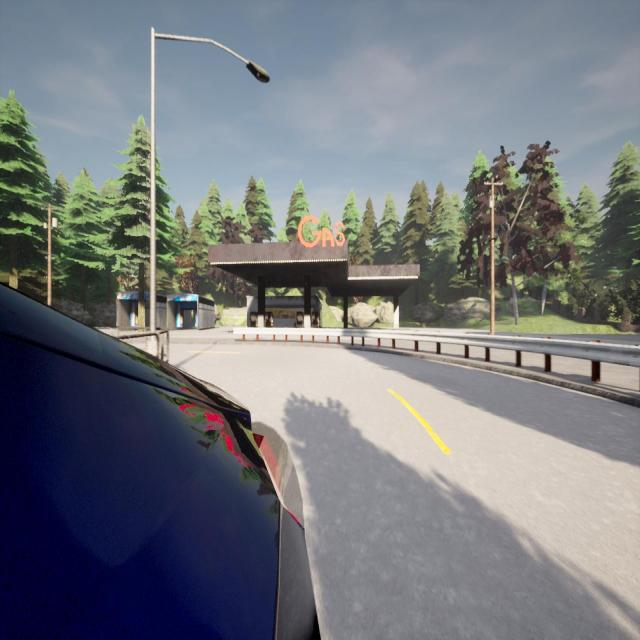Vehicle: (0, 286, 315, 640)
